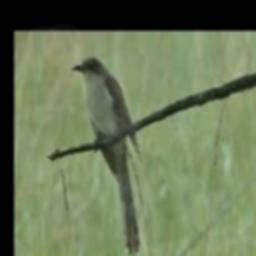Cuckoo: (72, 57, 144, 256)
